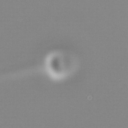normal: (1, 61, 45, 85)
